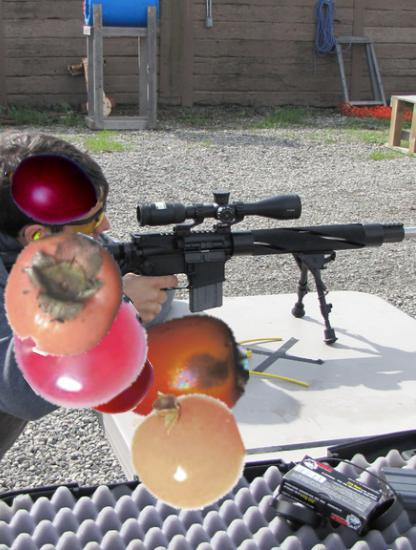Blueberry: (65, 279, 154, 368)
Kaki: (109, 298, 249, 438), (0, 231, 128, 359)
Physalis: (123, 385, 250, 512)
Redcurrant: (15, 279, 147, 411)
Tamarillo: (3, 140, 99, 236)
Tomato: (73, 337, 153, 417)
